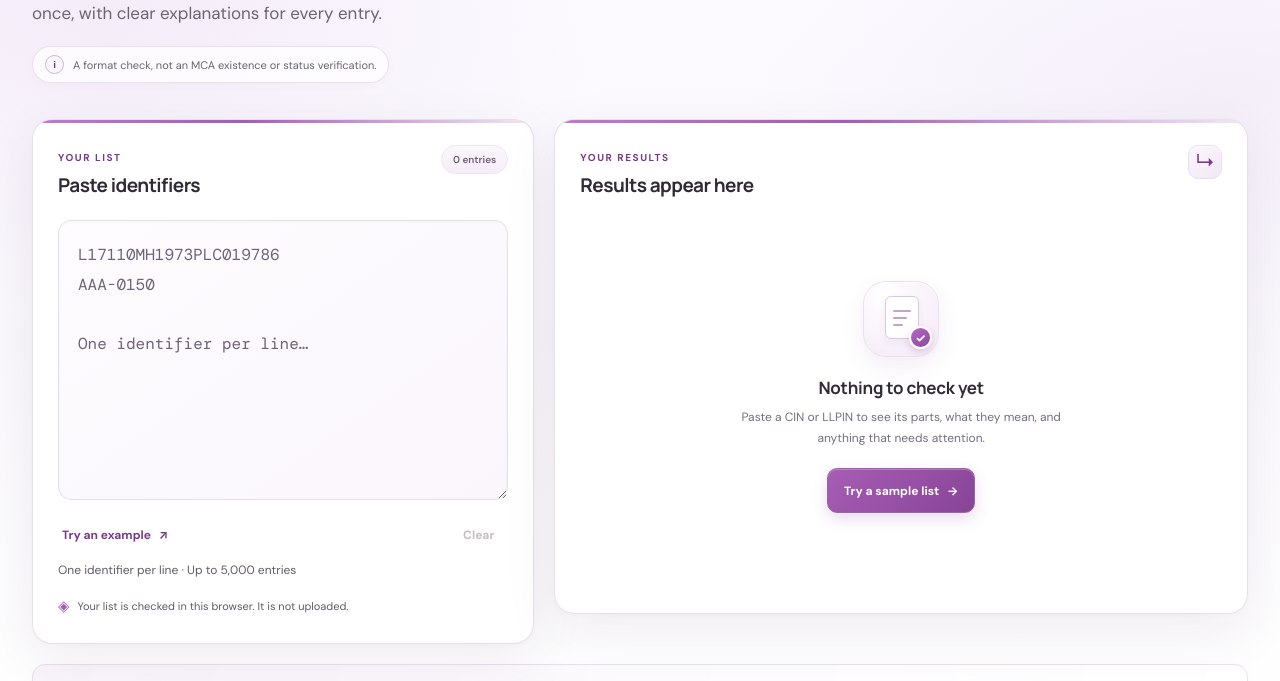
FileSure checker interface › shows all LLPIN-only metadata as not encoded
(page scrolled)
Type "AAA-1234" into the text box named "Paste one CIN or LLPIN per line" at (283, 360), box left=58, top=220, right=508, bottom=500
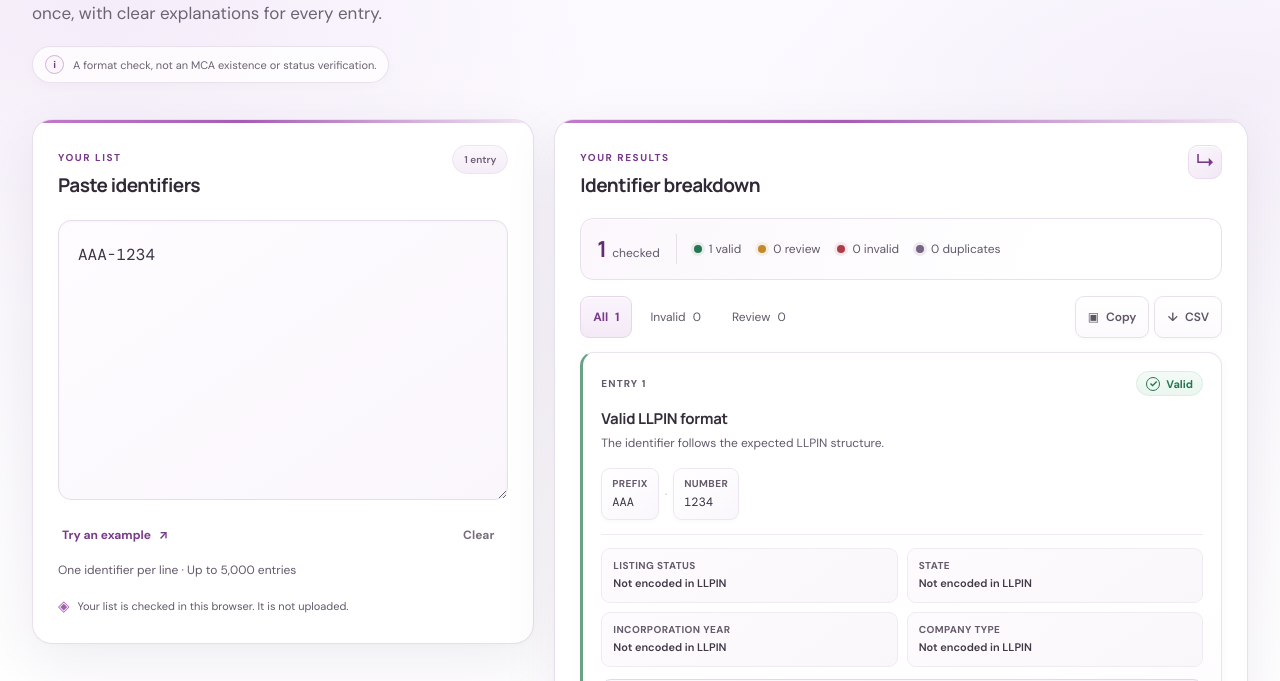
Expected: the heading "Valid LLPIN format" is shown, left=601, top=408, right=728, bottom=429
Expected: the text "Not encoded in LLPIN" is shown 4 times, left=613, top=576, right=726, bottom=590; left=919, top=576, right=1032, bottom=590; left=613, top=640, right=726, bottom=654; left=919, top=640, right=1032, bottom=654
